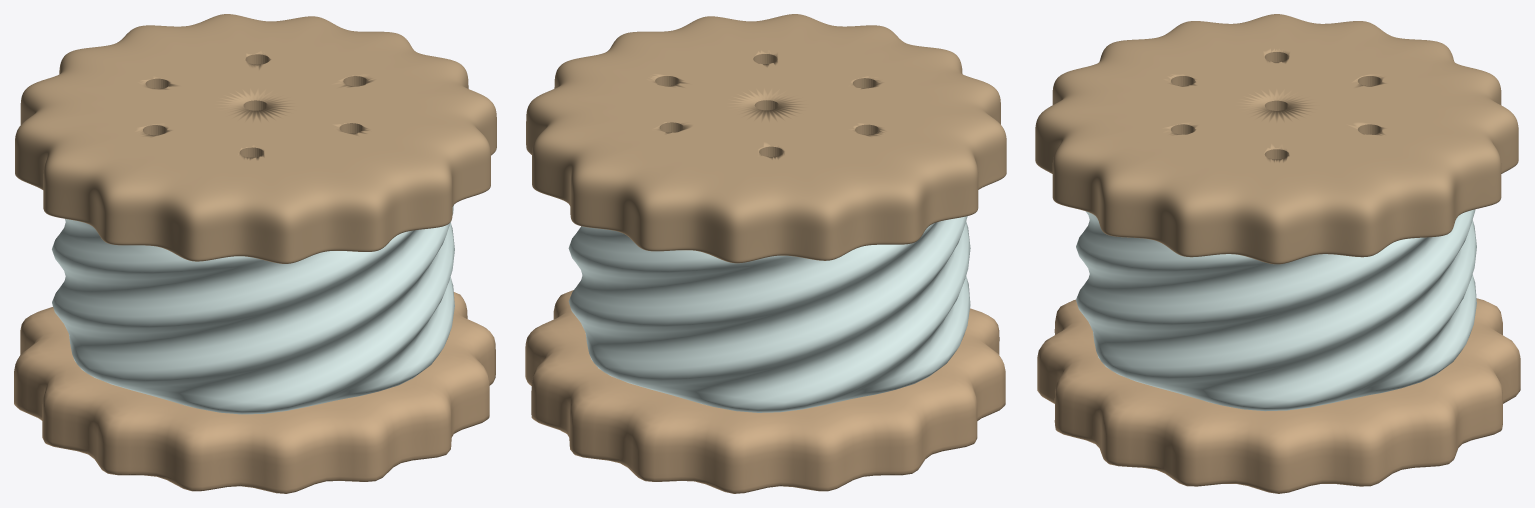
The model's file is table.fbx.
The picture shows the model from 3 angles, left to right: view 1: azimuth 30°, elevation 25°; view 2: azimuth 150°, elevation 25°; view 3: azimuth 270°, elevation 25°; orthographic projection.
Parts seen in each view (by area): view 1: circle with holes.004, cream.003, circle cracker.004; view 2: circle with holes.004, cream.003, circle cracker.004; view 3: circle with holes.004, cream.003, circle cracker.004.
Part boxes in pixels (left/top/right/bottom): circle with holes.004: left=15, top=14, right=496, bottom=263; cream.003: left=52, top=205, right=454, bottom=414; circle cracker.004: left=14, top=292, right=495, bottom=493; circle with holes.004: left=526, top=14, right=1006, bottom=263; cream.003: left=568, top=216, right=970, bottom=412; circle cracker.004: left=525, top=290, right=1005, bottom=493; circle with holes.004: left=1035, top=14, right=1518, bottom=264; cream.003: left=1076, top=209, right=1476, bottom=411; circle cracker.004: left=1037, top=298, right=1520, bottom=493.
Bounding box in the file's own units: 185 × 121 × 184.
